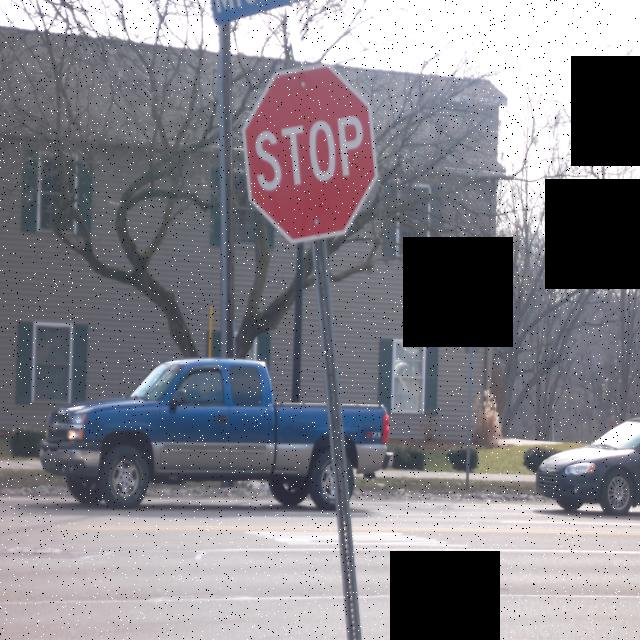stop: (238, 58, 384, 253)
